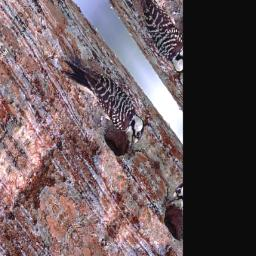Woodpecker: (60, 34, 150, 162)
